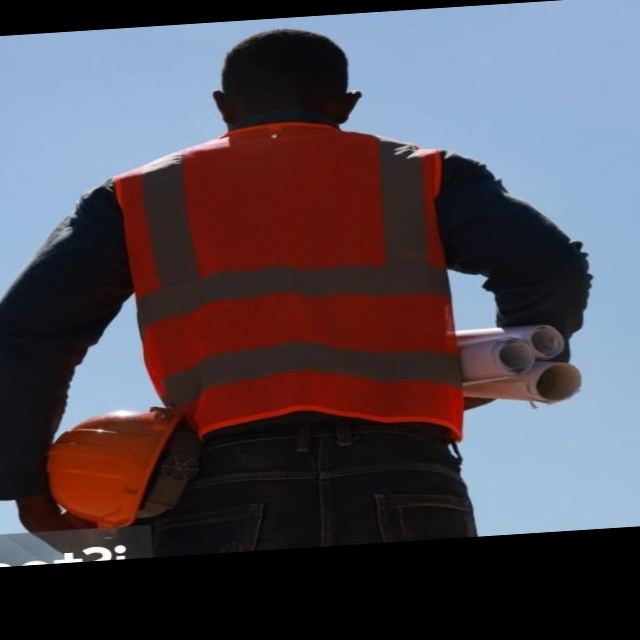Con_Chaleco: (118, 121, 457, 440)
Sin_Casco_Mascarrilla: (207, 22, 363, 138)
